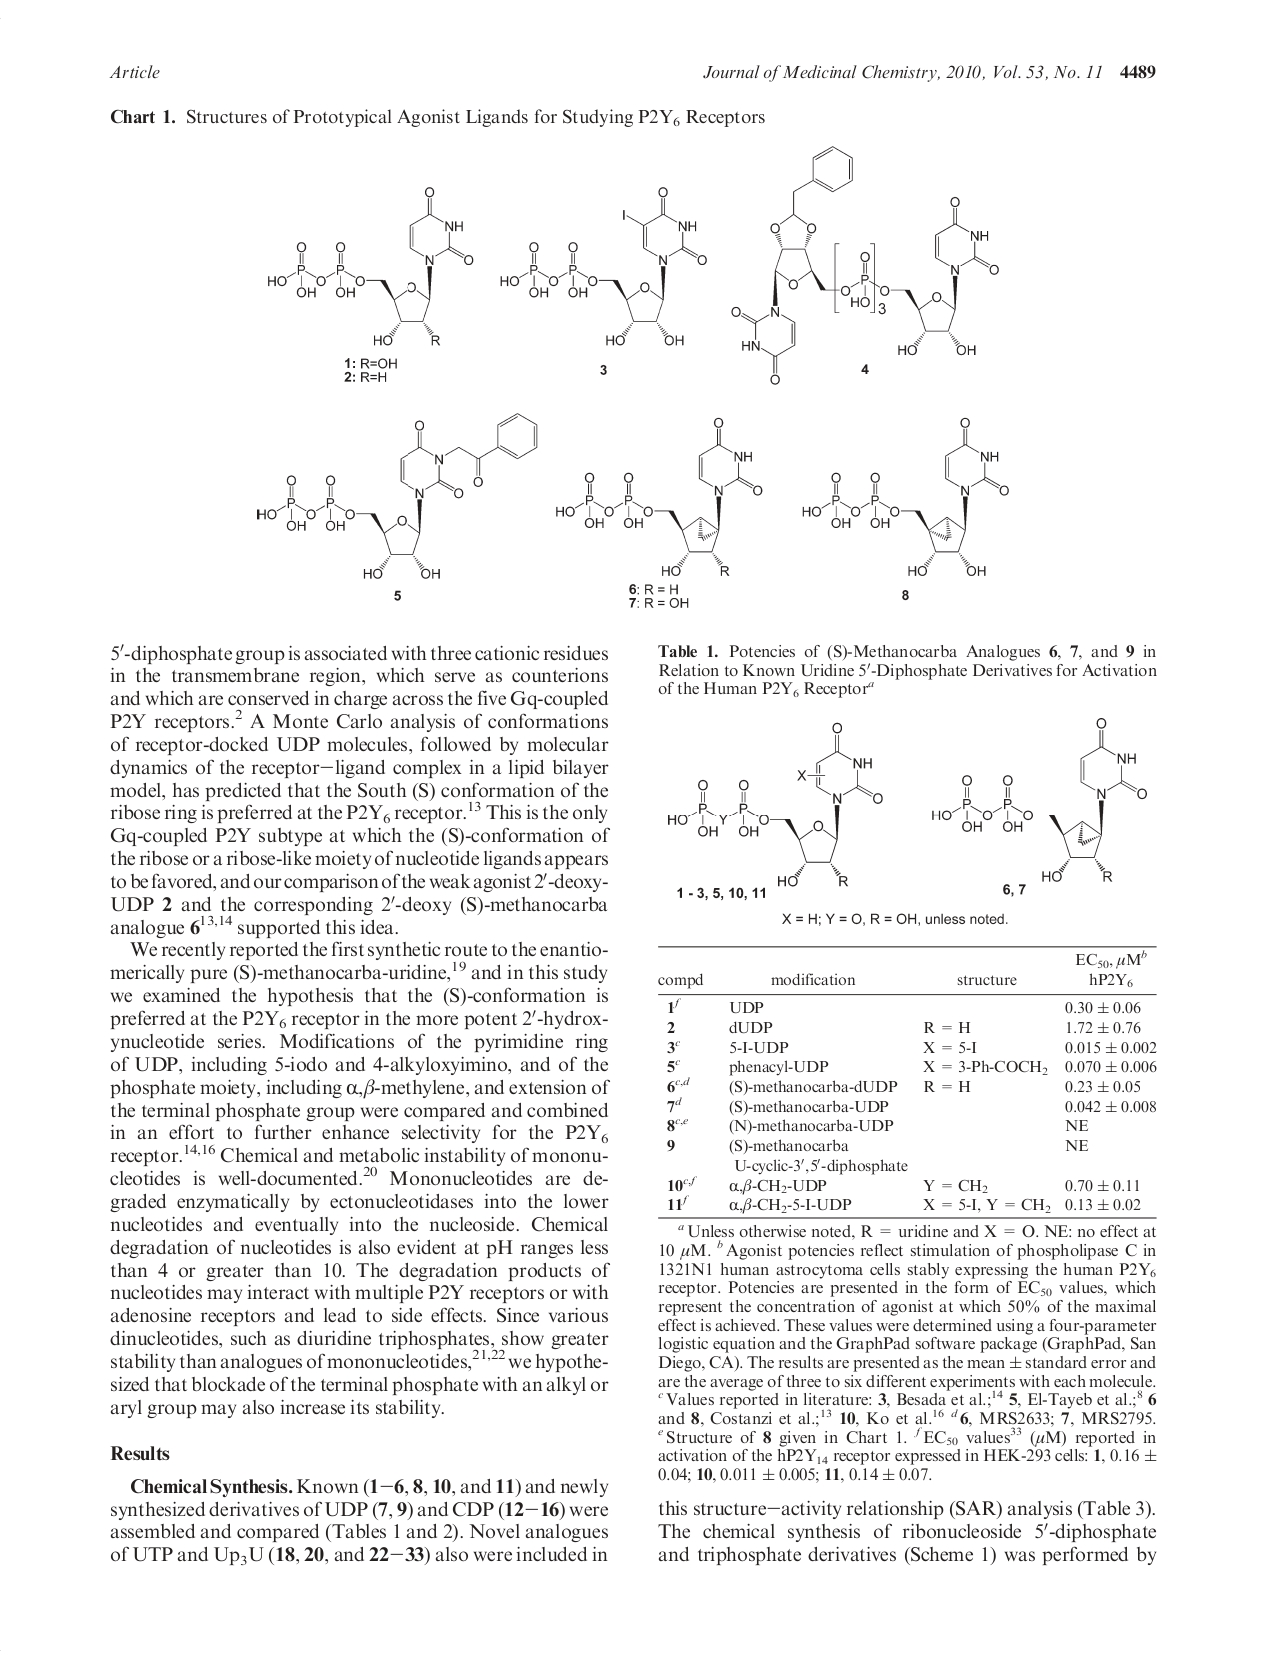exist_molecular: (727, 144, 1001, 387), (254, 410, 540, 580), (497, 184, 707, 376), (931, 714, 1152, 880), (668, 721, 883, 888), (555, 414, 766, 578), (266, 181, 475, 347), (801, 414, 1013, 576)
